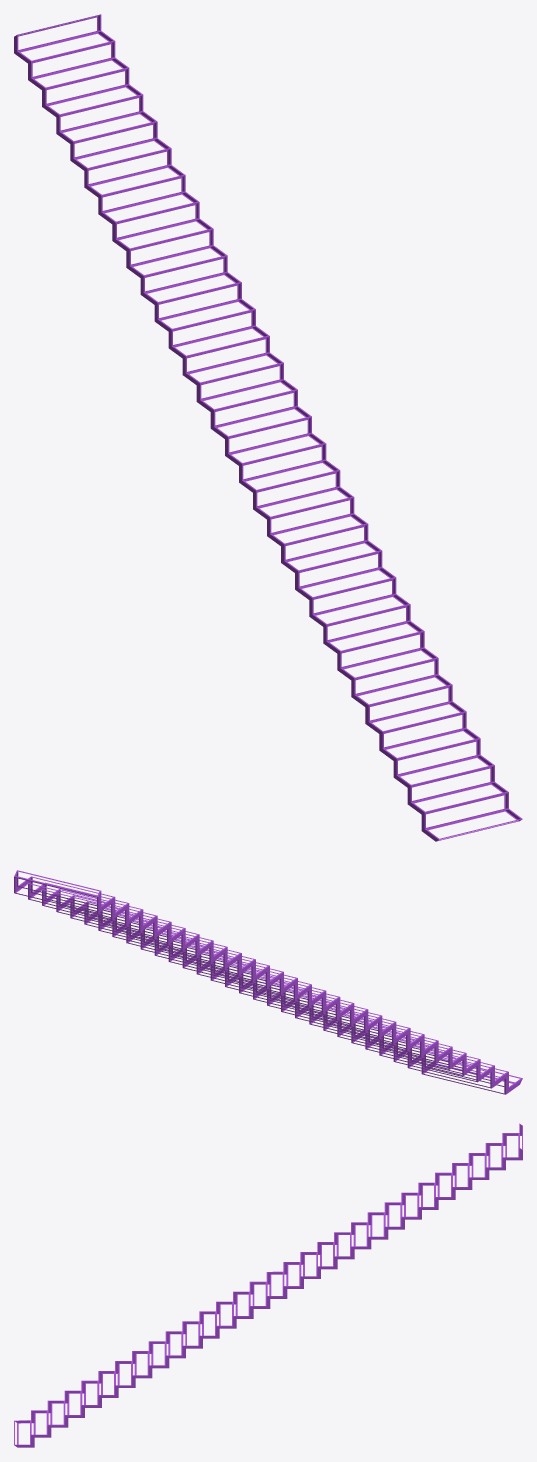
Rendered from TransparenStair.fbx.
3 views of the same model, one above another, from view 1: azimuth 30°, elevation 25°; view 2: azimuth 150°, elevation 25°; view 3: azimuth 270°, elevation 25° (orthographic). The views are drawn at different scales.
Visible parts, largest first — view 1: Plane.002; view 2: Plane.002; view 3: Plane.002.
Boxes of the visible parts, x1,y1,x2,y2 form: Plane.002: [14, 14, 522, 841]; Plane.002: [14, 870, 522, 1094]; Plane.002: [14, 1123, 522, 1447].
Bounding box in the file's own units: 122 × 695 × 1069.
